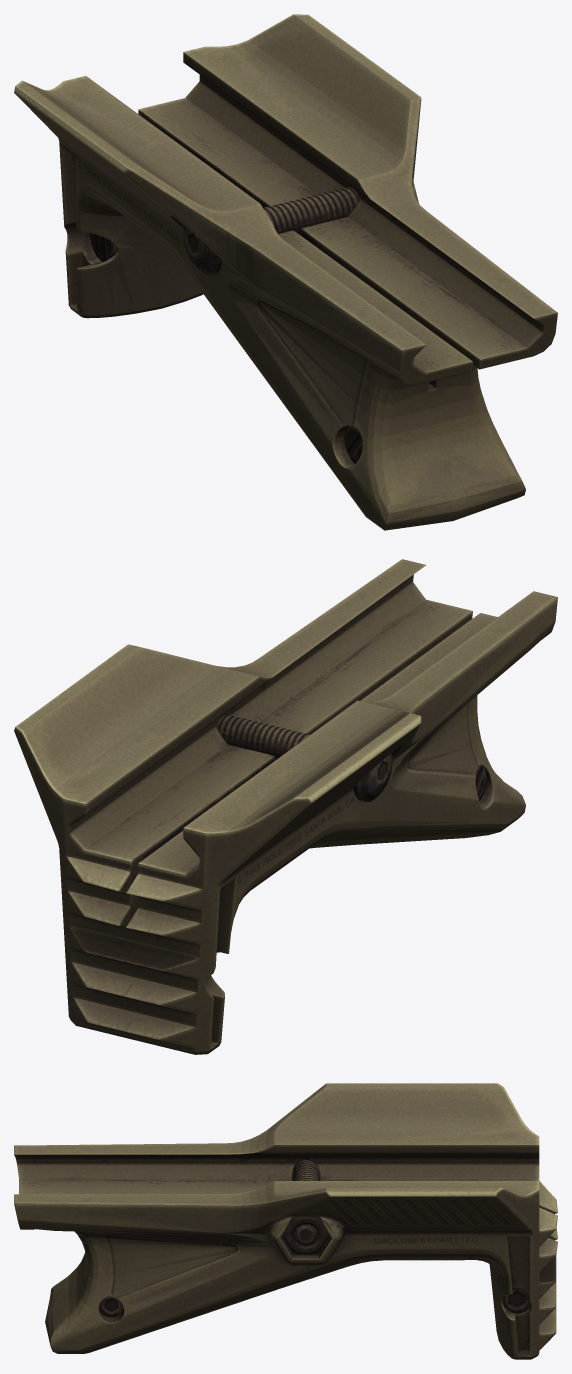
3 views of the same model, one above another, from view 1: azimuth 30°, elevation 25°; view 2: azimuth 150°, elevation 25°; view 3: azimuth 270°, elevation 25° (orthographic). The views are drawn at different scales.
Parts seen in each view (by area): view 1: TW_655dccfdbdcc6b5df71382b6_PZ_Import; view 2: TW_655dccfdbdcc6b5df71382b6_PZ_Import; view 3: TW_655dccfdbdcc6b5df71382b6_PZ_Import.
Part boxes in pixels (left/top/right/bottom): TW_655dccfdbdcc6b5df71382b6_PZ_Import: left=14, top=14, right=557, bottom=530; TW_655dccfdbdcc6b5df71382b6_PZ_Import: left=14, top=559, right=557, bottom=1054; TW_655dccfdbdcc6b5df71382b6_PZ_Import: left=14, top=1083, right=557, bottom=1359.
Bounding box in the file's own units: 0.029 × 0.0603 × 0.0242.
1 material, 1 textured.
